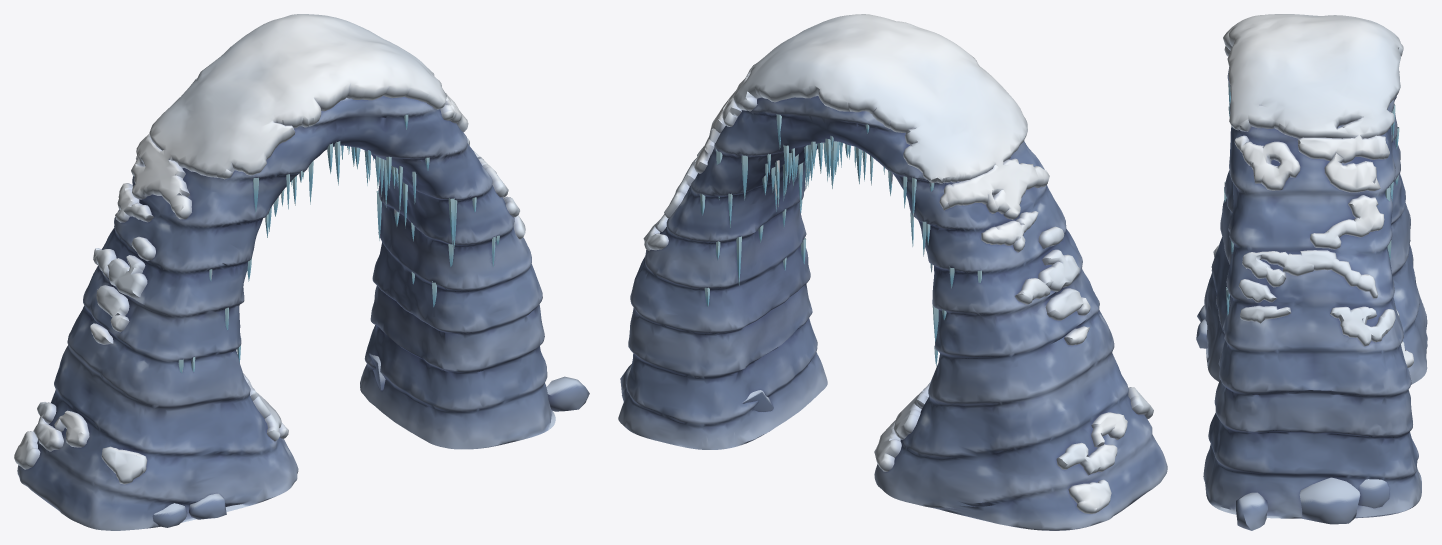
The model's file is FP_B04_StoneArch.fbx.
3 views of the same model, side by side, from view 1: azimuth 30°, elevation 25°; view 2: azimuth 150°, elevation 25°; view 3: azimuth 270°, elevation 25° (orthographic). The views are drawn at different scales.
Parts seen in each view (by area): view 1: Arch_LOD0, SnowCap_LOD0, Icicles_LOD0, Boulders_LOD0; view 2: Arch_LOD0, SnowCap_LOD0, Icicles_LOD0; view 3: Arch_LOD0, SnowCap_LOD0, Boulders_LOD0, Icicles_LOD0.
Part boxes in pixels (x1,y1,x2,y2): Arch_LOD0: (17,96,555,530); SnowCap_LOD0: (14,14,525,484); Icicles_LOD0: (178,114,499,372); Boulders_LOD0: (152,353,589,527); Arch_LOD0: (618,96,1167,530); SnowCap_LOD0: (643,14,1153,514); Icicles_LOD0: (700,114,981,366); Arch_LOD0: (1203,67,1427,518); SnowCap_LOD0: (1213,14,1413,367); Boulders_LOD0: (1196,305,1389,530); Icicles_LOD0: (1224,82,1399,316).
Size of what is drawn, in the model's own units: 20 by 15 by 8.
